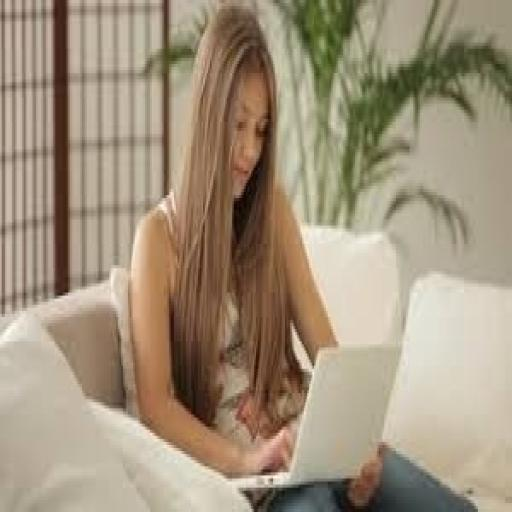using_laptop: (225, 338, 403, 491)
